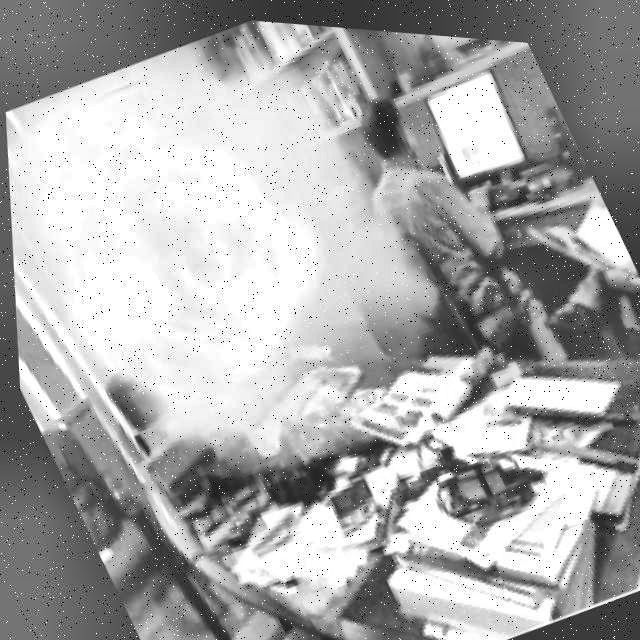Smoke: (5, 16, 509, 543)
